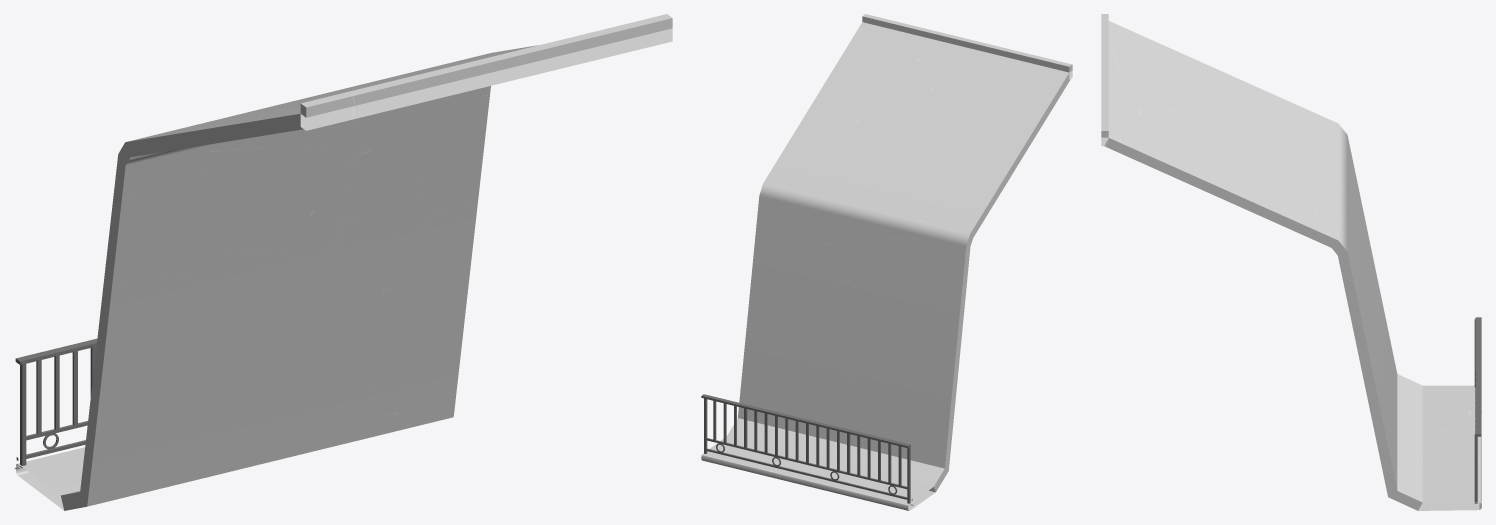
The model's file is SM_Paris_Rooftop_400uu.fbx.
The picture shows the model from 3 angles, left to right: view 1: azimuth 30°, elevation 25°; view 2: azimuth 150°, elevation 25°; view 3: azimuth 270°, elevation 25°; orthographic projection. The views are drawn at different scales.
Visible parts, largest first — view 1: SM_Paris_Rooftop_400uu; view 2: SM_Paris_Rooftop_400uu; view 3: SM_Paris_Rooftop_400uu.
Boxes of the visible parts, bbox=[...] form: SM_Paris_Rooftop_400uu: bbox=[14, 14, 672, 510]; SM_Paris_Rooftop_400uu: bbox=[701, 14, 1072, 510]; SM_Paris_Rooftop_400uu: bbox=[1101, 14, 1481, 510].
Size of the model in its own units: 405 by 606 by 549.
